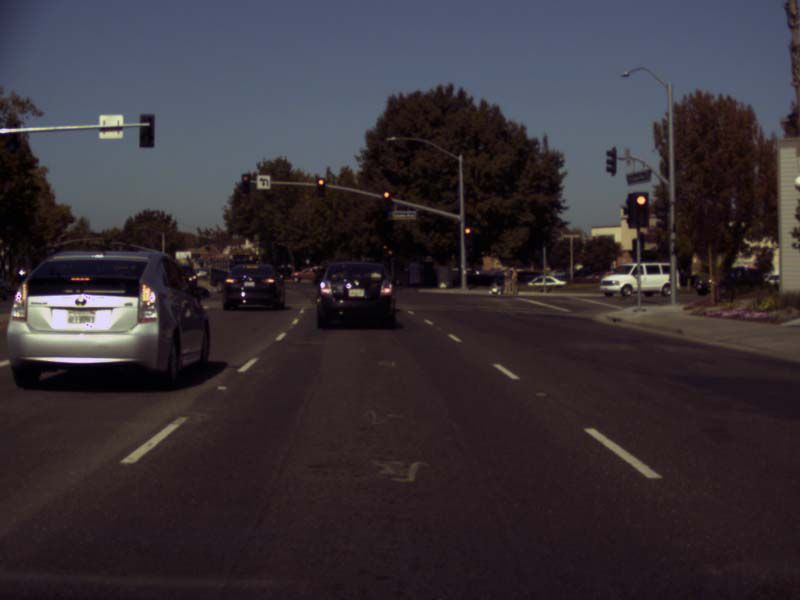Red: (631, 192, 648, 225), (380, 190, 391, 208), (463, 227, 472, 245), (242, 174, 250, 193), (317, 178, 324, 195), (387, 250, 394, 255), (382, 243, 387, 248)
